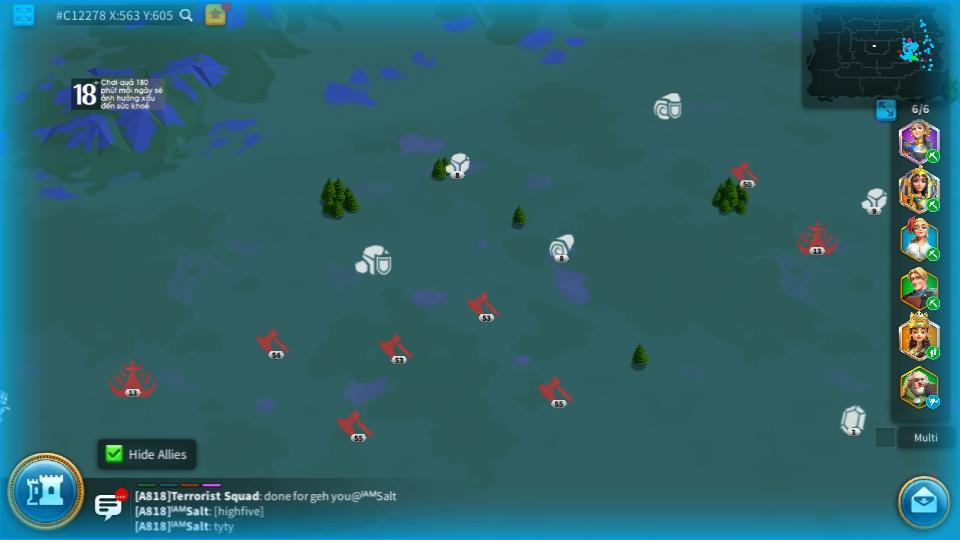gem-z-out: (840, 405, 866, 434)
march_farming: (924, 197, 939, 212), (924, 149, 939, 162), (926, 297, 941, 308)
march_idle: (925, 396, 942, 408)
march_marching: (925, 347, 941, 359)
